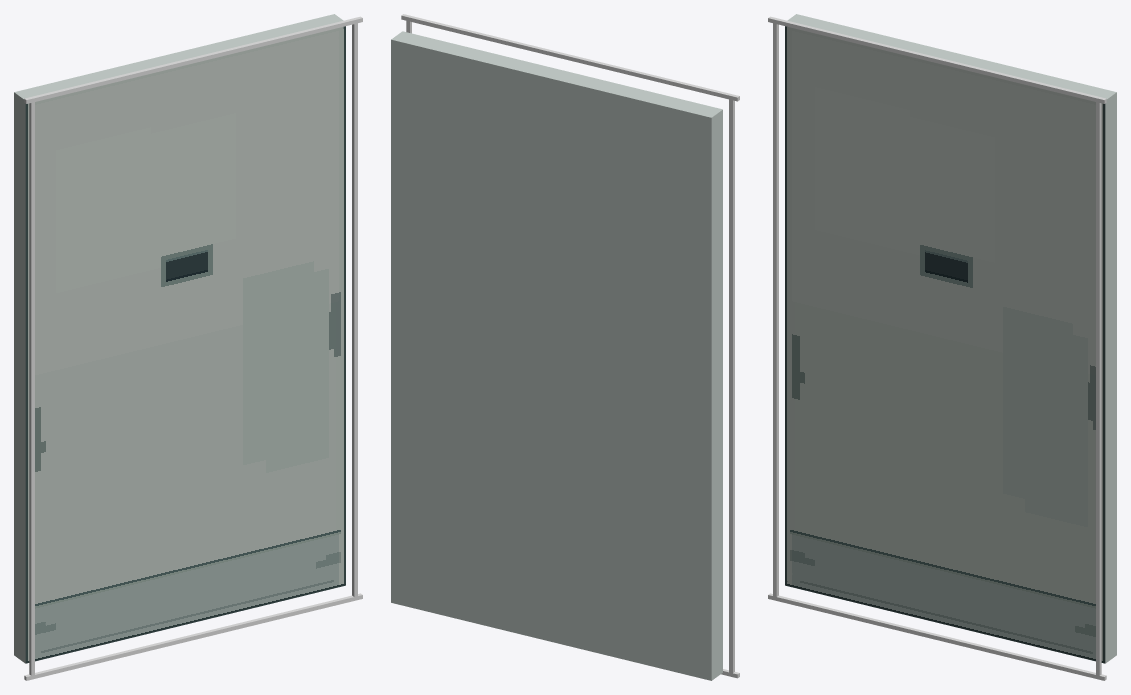
The model's file is room1_integrated_door_v3.glb.
The picture shows the model from 3 angles, left to right: view 1: azimuth 30°, elevation 25°; view 2: azimuth 150°, elevation 25°; view 3: azimuth 330°, elevation 25°; orthographic projection.
Visible parts, largest first — view 1: DoorPanel, JambLight_Right, JambLight_Left, JambLight_Top, JambLight_Bottom; view 2: DoorPanel, JambLight_Left, JambLight_Top; view 3: DoorPanel, JambLight_Right, JambLight_Left, JambLight_Top, JambLight_Bottom.
Boxes of the visible parts, x1,y1,x2,y2 form: DoorPanel: [14, 14, 345, 663]; JambLight_Right: [352, 21, 357, 598]; JambLight_Left: [29, 100, 34, 676]; JambLight_Top: [24, 16, 362, 103]; JambLight_Bottom: [24, 593, 362, 680]; DoorPanel: [391, 31, 722, 680]; JambLight_Left: [729, 97, 734, 674]; JambLight_Top: [401, 14, 739, 101]; DoorPanel: [785, 14, 1116, 663]; JambLight_Right: [1096, 100, 1101, 677]; JambLight_Left: [773, 21, 778, 598]; JambLight_Top: [768, 16, 1106, 103]; JambLight_Bottom: [768, 593, 1106, 680].
Size of the model in its own units: 1.44 by 2.37 by 0.1505.
Materials: 3 (1 with a texture image).
